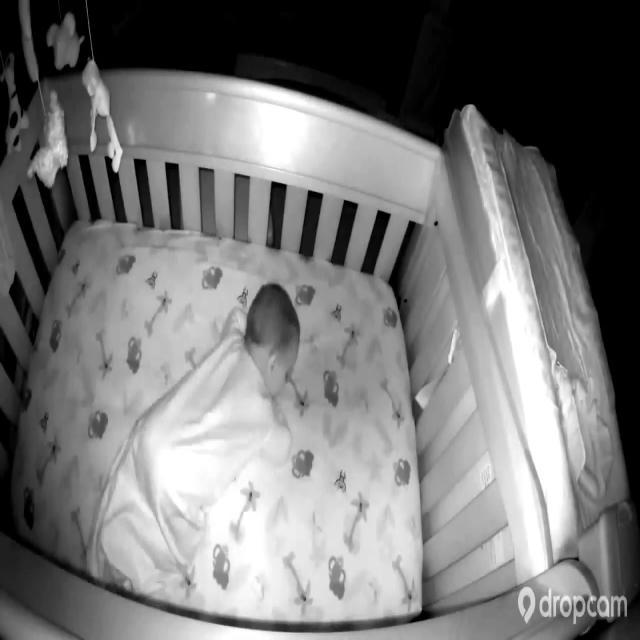baby: (95, 280, 304, 608)
